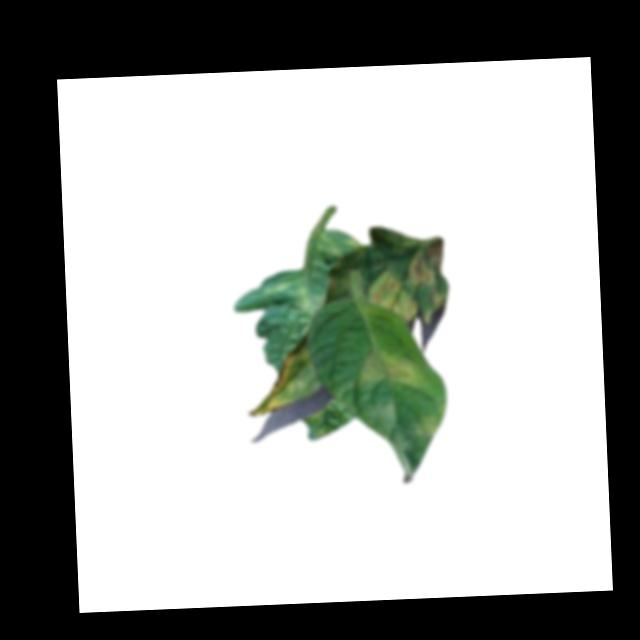Leaf_Mold: (364, 237, 447, 324), (243, 345, 315, 418), (289, 283, 332, 340), (358, 348, 414, 389)
